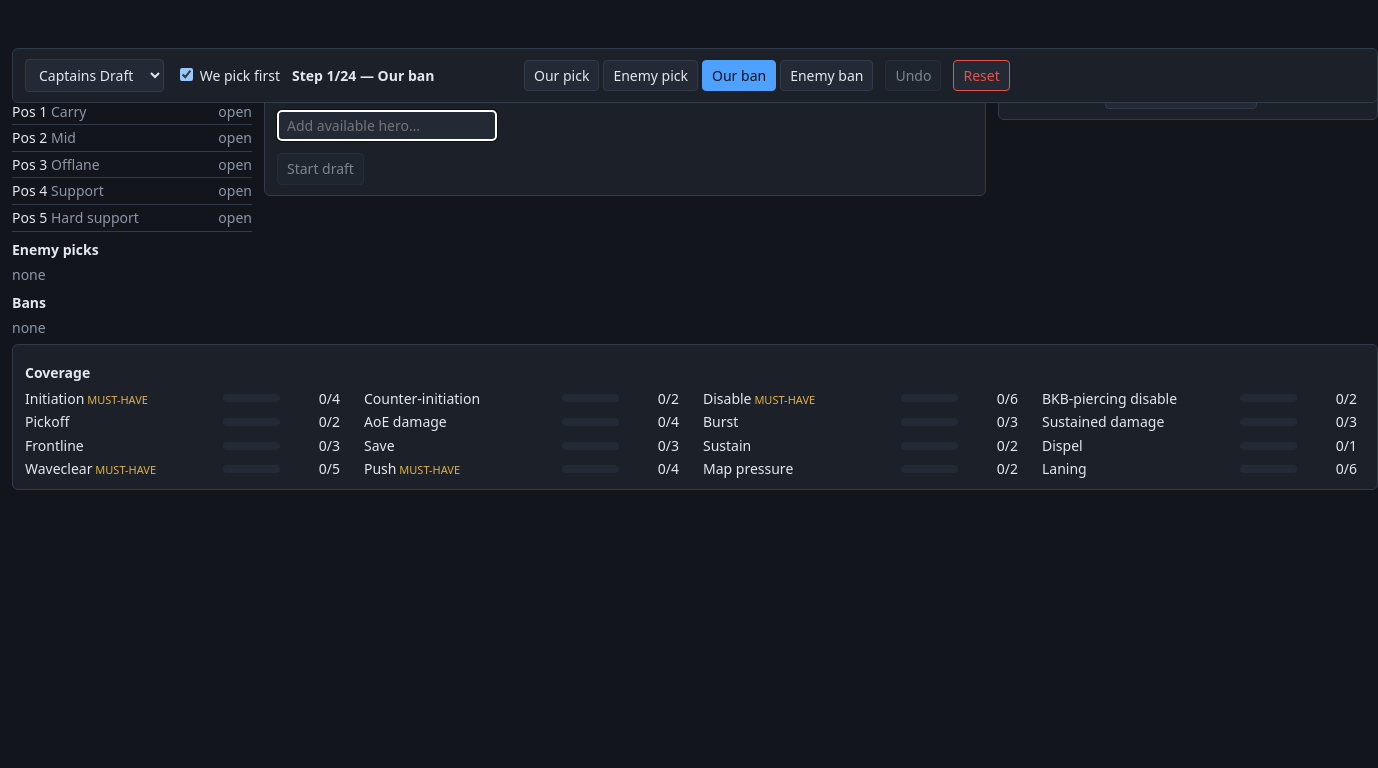
Scenario: DraftScreen › captains draft shows the available-heroes step until started
Expected: the heading "Available heroes" is shown, [277,84,393,103]
Type "Axe" into the dropdown labelled "Add available hero…" at (387,125), box [277,110,497,141]
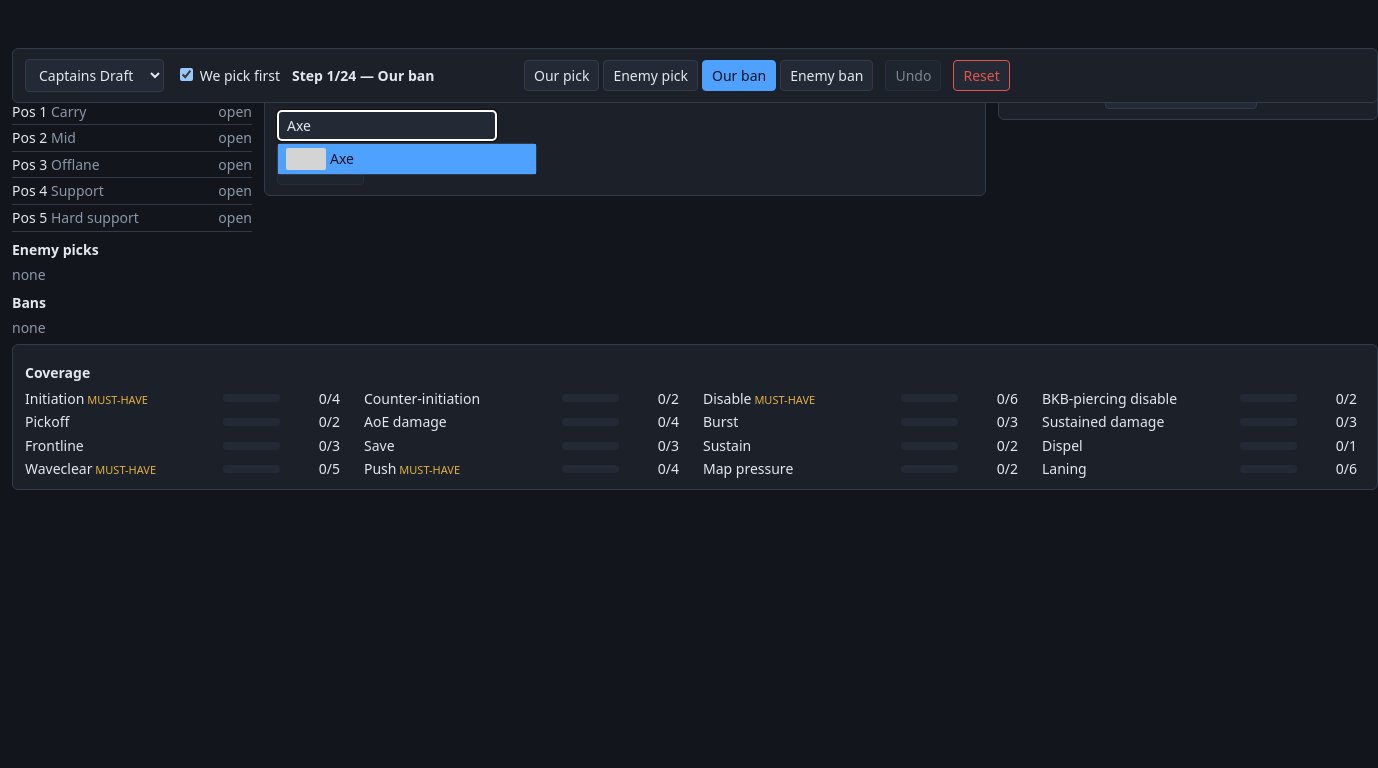
Press Enter in the dropdown named "…", box [277,110,497,141]
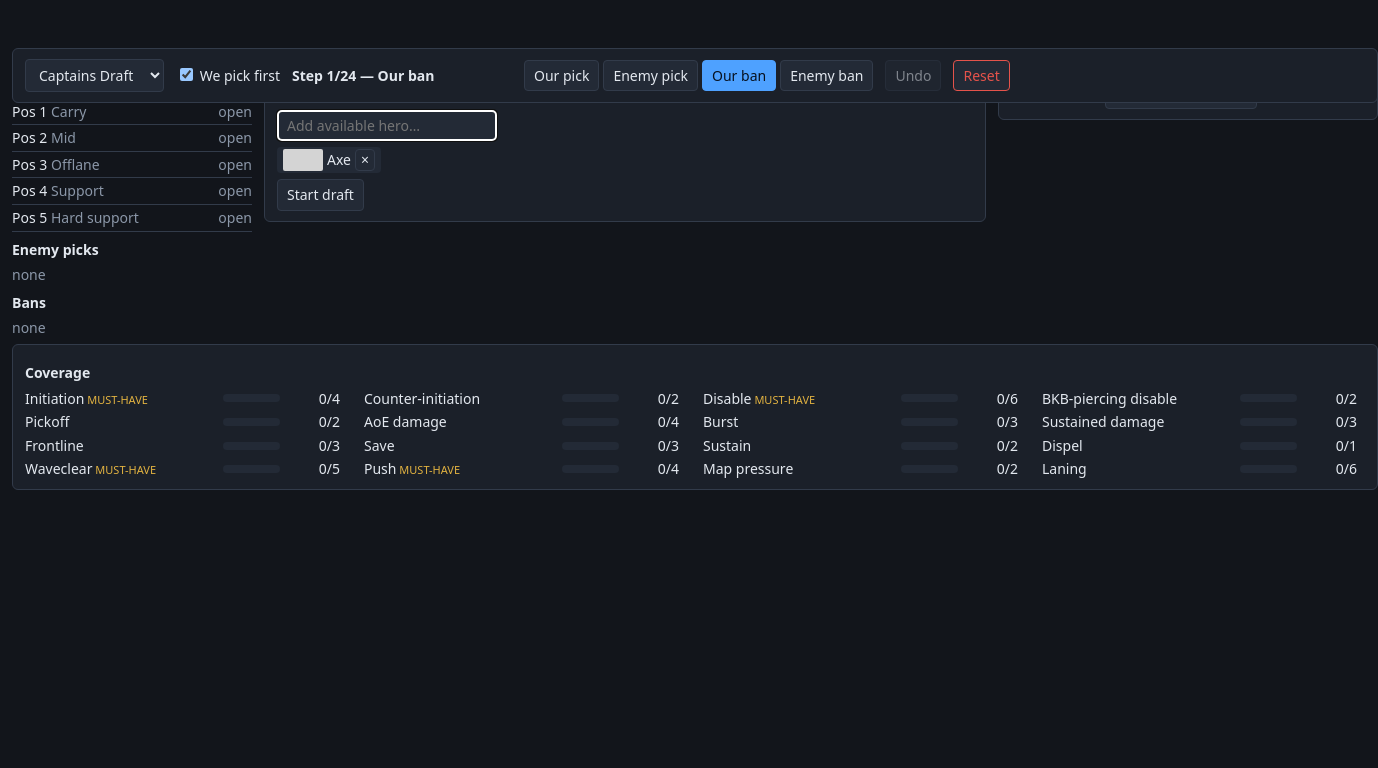
Click the button "Start draft" at (320,195), box [277,179,364,211]
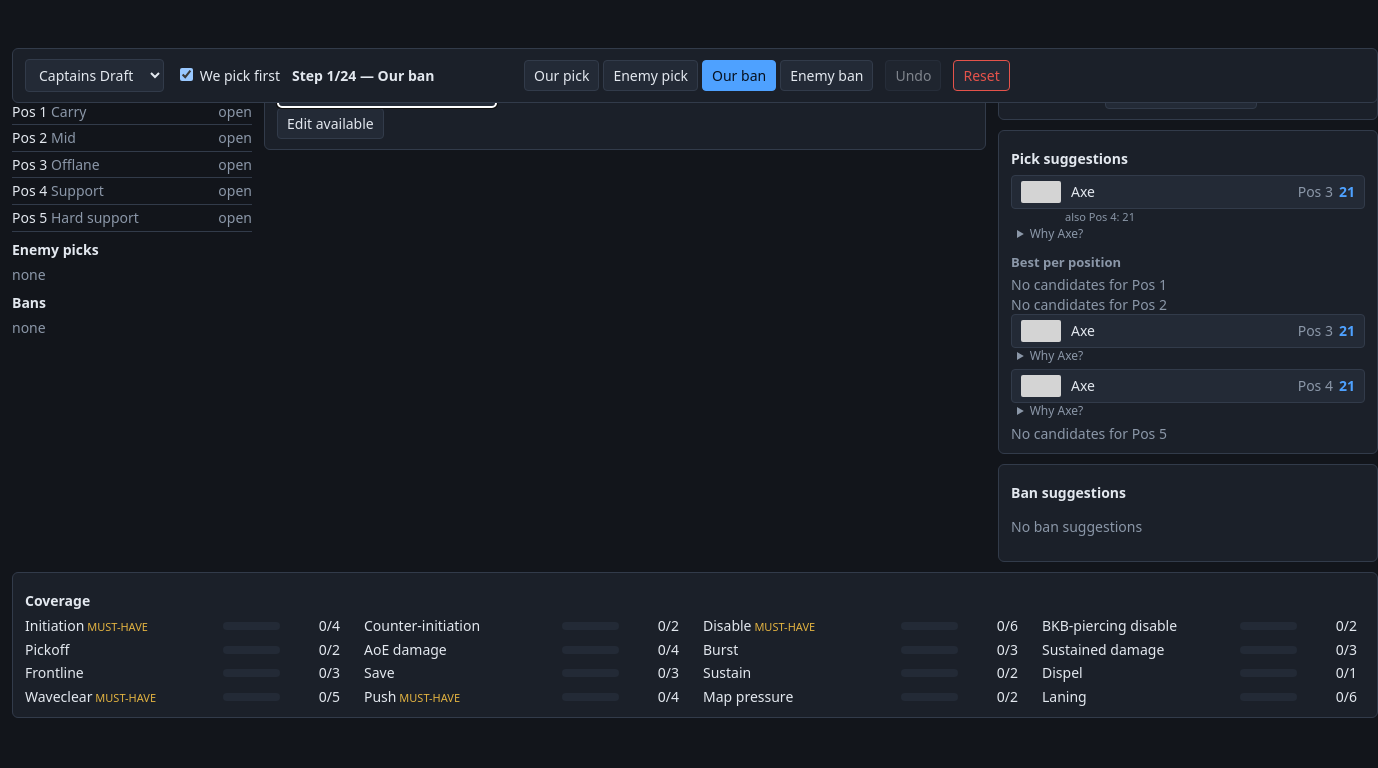
Expected: the element with test id "pick-suggestions" is shown, [998,130,1377,454]
